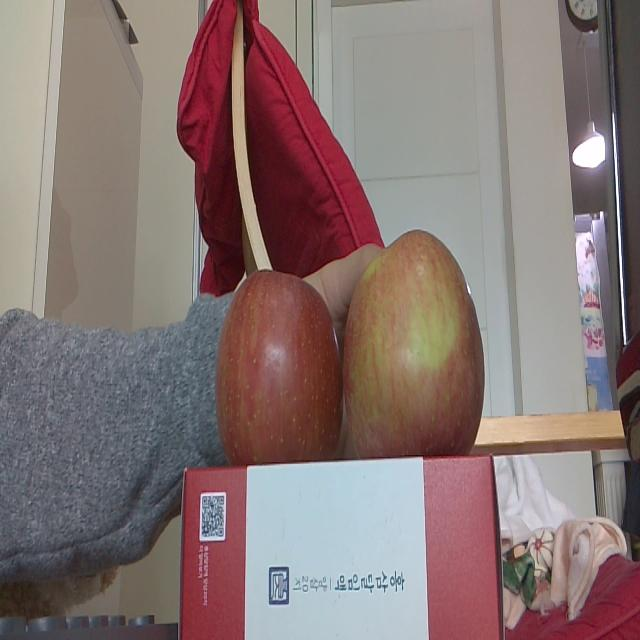apple: (342, 233, 487, 459), (218, 270, 342, 468)
